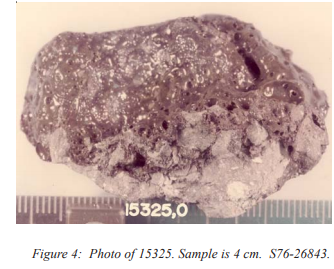Breccia: (28, 15, 321, 203)
